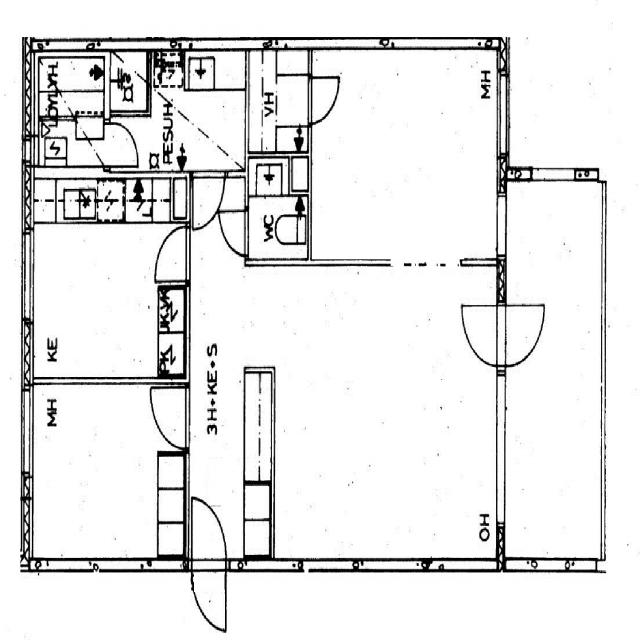door: (459, 304, 506, 366), (497, 304, 544, 366), (149, 388, 190, 448), (192, 558, 226, 628), (192, 502, 226, 572), (153, 227, 190, 281), (192, 171, 225, 231), (217, 210, 249, 255), (308, 78, 339, 122), (104, 123, 136, 165)
